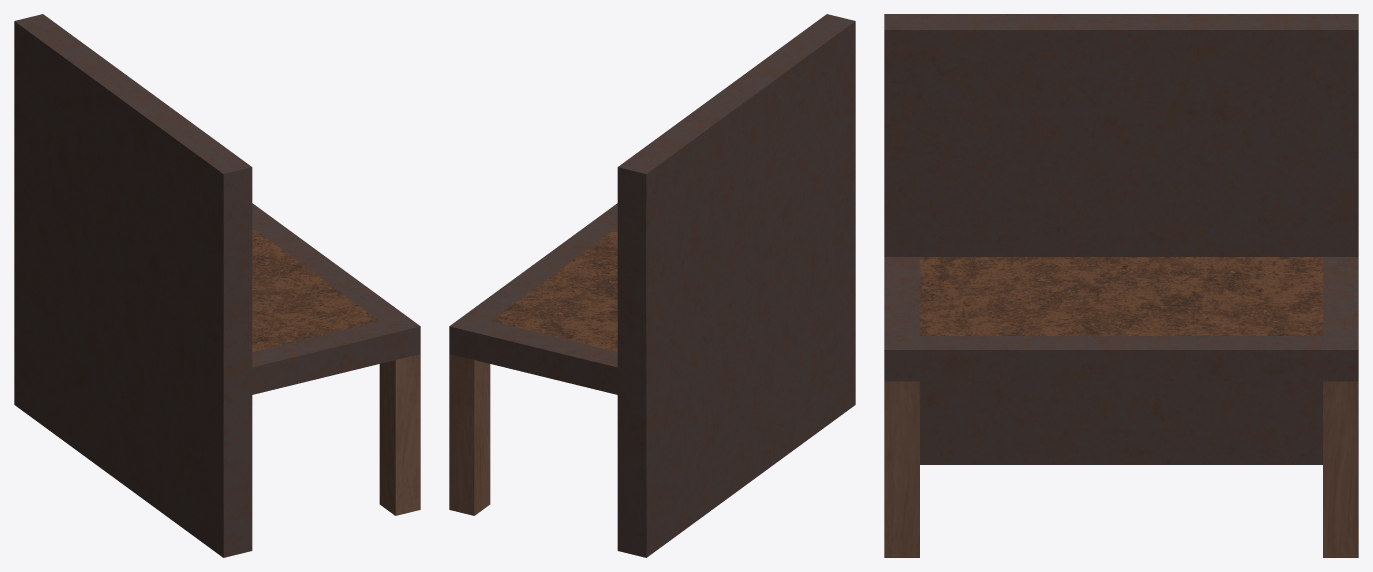
The model's file is Workbench Table.fbx.
3 views of the same model, side by side, from view 1: azimuth 30°, elevation 25°; view 2: azimuth 150°, elevation 25°; view 3: azimuth 270°, elevation 25° (orthographic). The views are drawn at different scales.
Visible parts, largest first — view 1: Baked Workbench Left; view 2: Baked Workbench Left; view 3: Baked Workbench Left.
Part boxes in pixels (x1=…): Baked Workbench Left: x1=14, y1=14, x2=420, y2=557; Baked Workbench Left: x1=449, y1=14, x2=855, y2=557; Baked Workbench Left: x1=884, y1=14, x2=1358, y2=557.
Bounding box in the file's own units: 54.42 × 101 × 100.
1 material, 1 textured.
